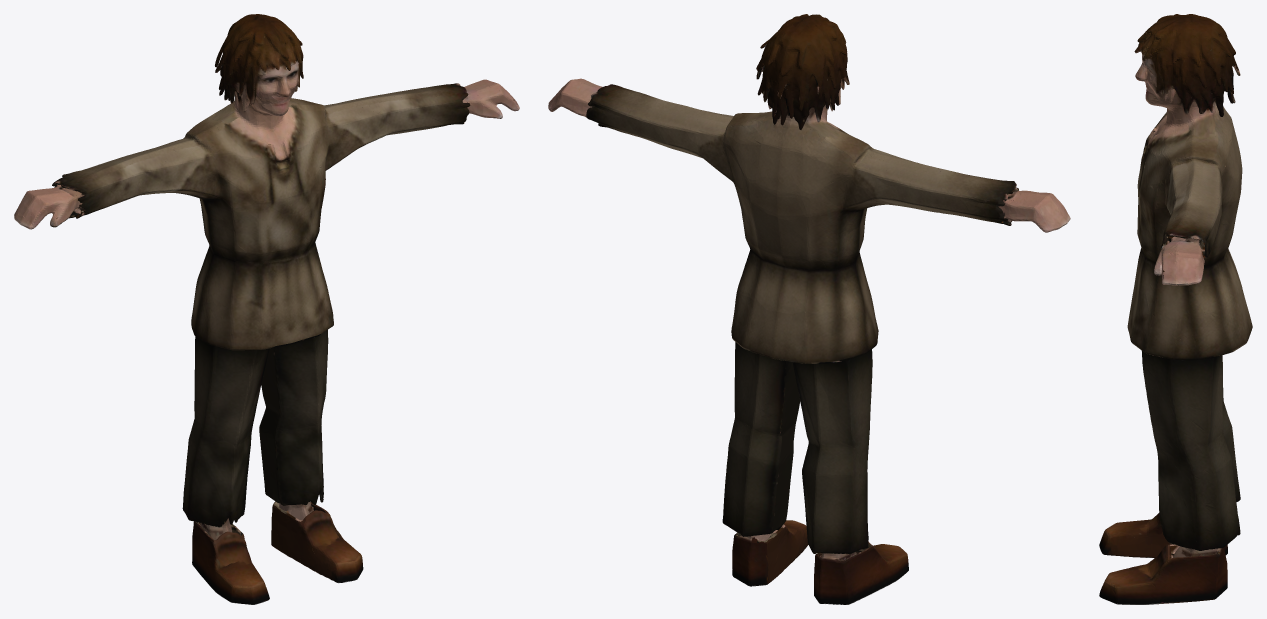
Rendered from peasant1.fbx.
The picture shows the model from 3 angles, left to right: view 1: azimuth 30°, elevation 25°; view 2: azimuth 150°, elevation 25°; view 3: azimuth 270°, elevation 25°; orthographic projection. The views are drawn at different scales.
Visible parts, largest first — view 1: world; view 2: world; view 3: world.
Part boxes in pixels (<box>): world: <box>14,14,519,604</box>; world: <box>548,14,1070,604</box>; world: <box>1099,14,1252,604</box>.
Bounding box in the file's own units: 191 × 199 × 49.95.
